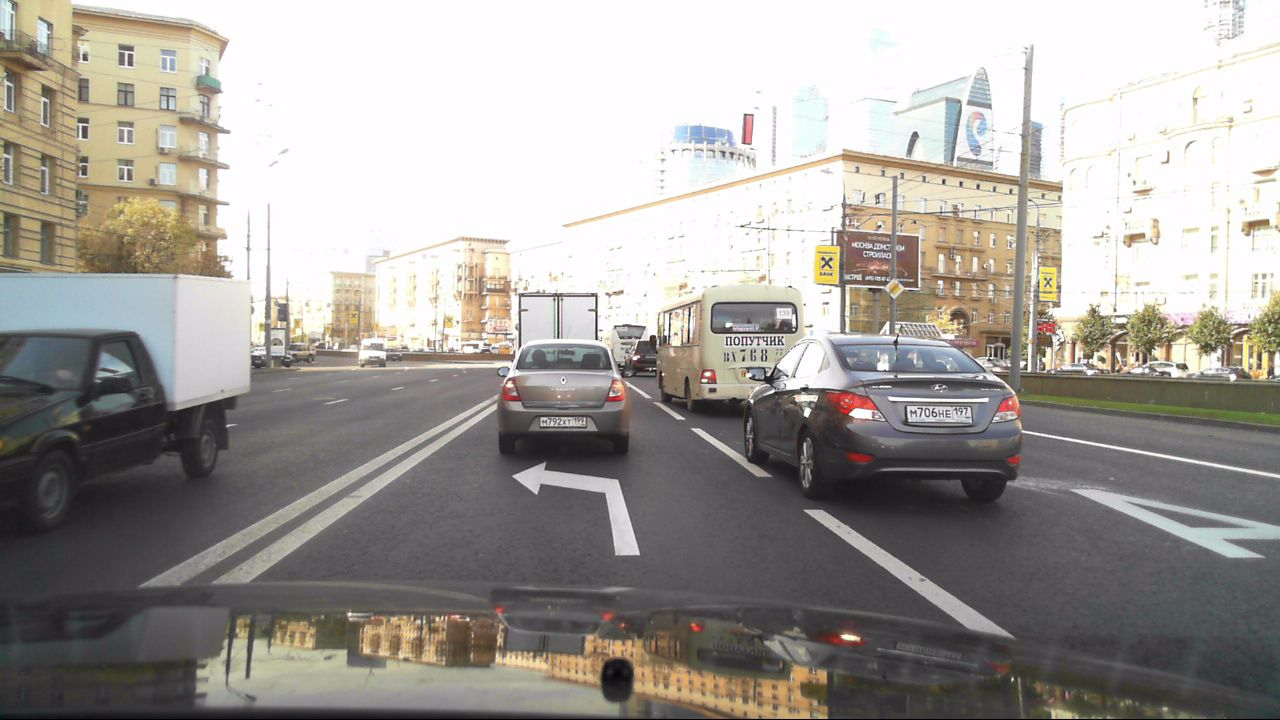main road: (885, 276, 906, 299)
